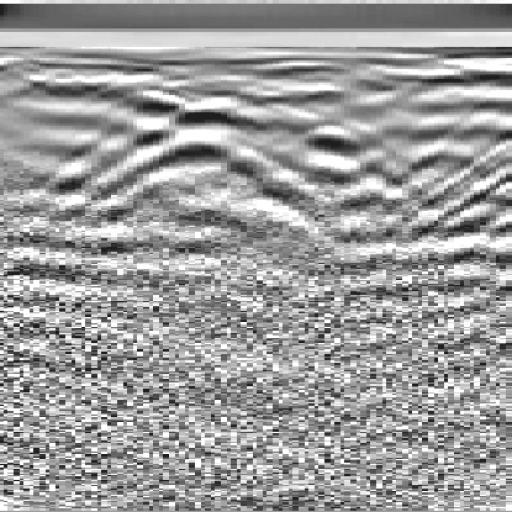metalic: (114, 67, 298, 305)
